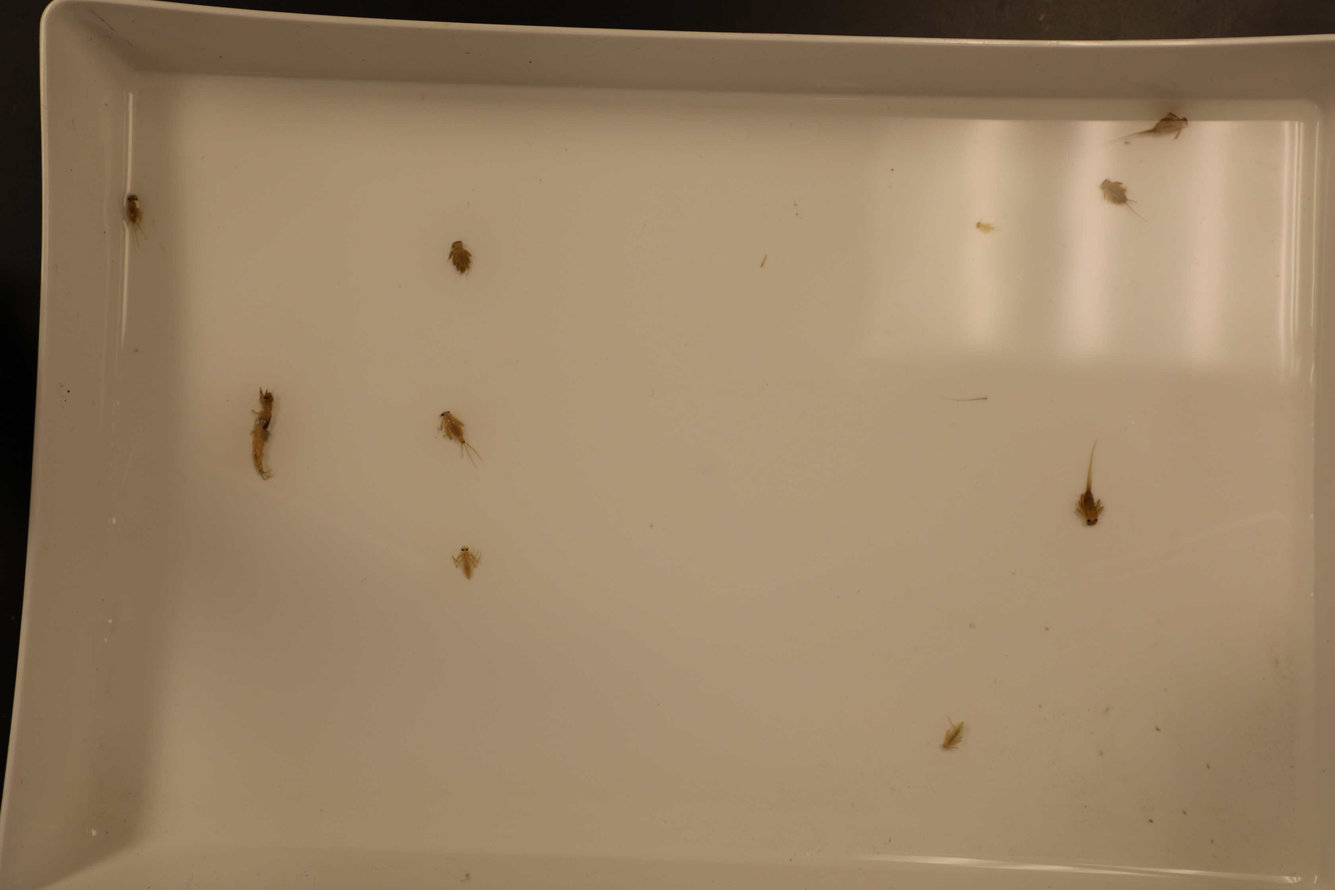Mayfly: (246, 383, 281, 485), (433, 408, 487, 474), (1108, 112, 1192, 154), (1073, 431, 1105, 535), (1093, 177, 1141, 218), (449, 537, 484, 586), (938, 708, 966, 756), (444, 238, 477, 277), (121, 192, 147, 239), (971, 216, 999, 234)
